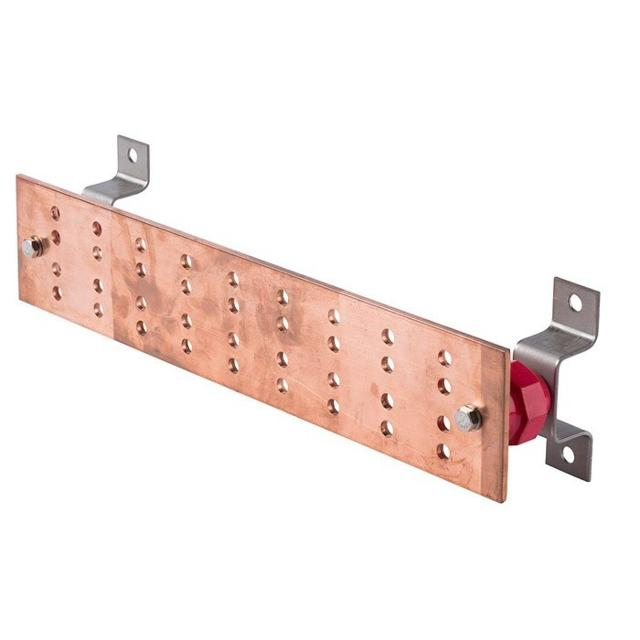busbar: (15, 135, 600, 504)
